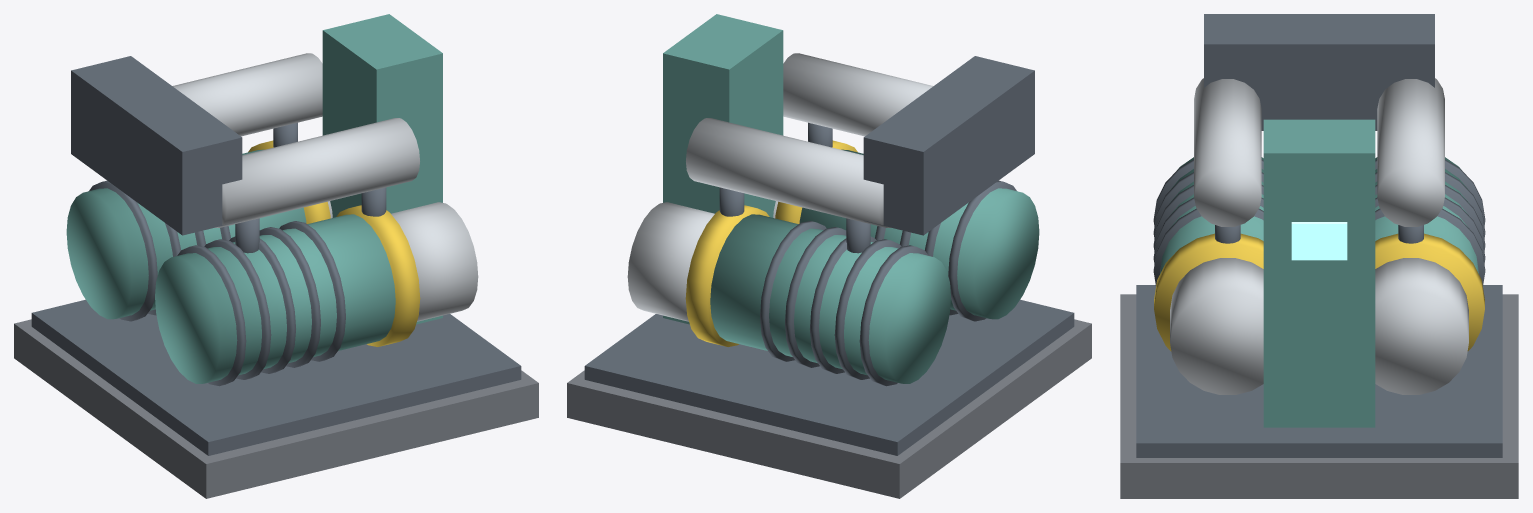
The model's file is compressor_train.glb.
3 renders of one model, left to right at view 1: azimuth 30°, elevation 25°; view 2: azimuth 150°, elevation 25°; view 3: azimuth 270°, elevation 25°, orthographic. The views are drawn at different scales.
Parts seen in each view (by area): view 1: SkidBase, MotorBody_-0.23, InertiaPad, IntakeHood, PLCKiosk, PulsationBottle_-0.23, MotorBody_0.23, PulsationBottle_0.23, CompHead_-0.23, CouplingGuard_-0.23, Fin_-0.23_0, Fin_-0.23_4 (+7 smaller); view 2: SkidBase, MotorBody_0.23, InertiaPad, IntakeHood, PLCKiosk, PulsationBottle_0.23, MotorBody_-0.23, PulsationBottle_-0.23, CompHead_0.23, CouplingGuard_0.23, Fin_0.23_0, Fin_0.23_4 (+7 smaller); view 3: PLCKiosk, SkidBase, InertiaPad, IntakeHood, CompHead_0.23, CompHead_-0.23, PulsationBottle_0.23, PulsationBottle_-0.23, CouplingGuard_0.23, CouplingGuard_-0.23, PLCScreen, MotorBody_0.23 (+11 smaller).
Part boxes in pixels (box(x1,y1,x2,y2)): SkidBase: box(31, 299, 521, 455); MotorBody_-0.23: box(155, 214, 395, 383); InertiaPad: box(14, 319, 538, 498); IntakeHood: box(71, 56, 242, 235); PLCKiosk: box(322, 14, 442, 324); PulsationBottle_-0.23: box(215, 118, 419, 227); MotorBody_0.23: box(66, 149, 306, 319); PulsationBottle_0.23: box(172, 53, 322, 136); CompHead_-0.23: box(391, 202, 478, 321); CouplingGuard_-0.23: box(336, 205, 420, 346); Fin_-0.23_0: box(177, 245, 246, 386); Fin_-0.23_4: box(279, 221, 345, 361); SkidBase: box(584, 299, 1074, 455); MotorBody_0.23: box(710, 214, 950, 383); InertiaPad: box(567, 319, 1091, 498); IntakeHood: box(863, 56, 1034, 235); PLCKiosk: box(663, 14, 783, 324); PulsationBottle_0.23: box(686, 118, 890, 227); MotorBody_-0.23: box(799, 149, 1039, 319); PulsationBottle_-0.23: box(783, 53, 933, 136); CompHead_0.23: box(627, 202, 714, 321); CouplingGuard_0.23: box(685, 205, 769, 346); Fin_0.23_0: box(859, 245, 928, 386); Fin_0.23_4: box(760, 221, 826, 361); PLCKiosk: box(1263, 119, 1375, 427); SkidBase: box(1136, 285, 1502, 457); InertiaPad: box(1120, 294, 1518, 498); IntakeHood: box(1204, 14, 1434, 130); CompHead_0.23: box(1375, 258, 1468, 394); CompHead_-0.23: box(1170, 258, 1263, 394); PulsationBottle_0.23: box(1377, 78, 1444, 226); PulsationBottle_-0.23: box(1194, 78, 1261, 226); CouplingGuard_0.23: box(1375, 233, 1484, 351); CouplingGuard_-0.23: box(1154, 233, 1263, 351); PLCScreen: box(1291, 222, 1347, 260); MotorBody_0.23: box(1375, 157, 1478, 273).
Size of the model in its own units: 1 by 0.92 by 1.
